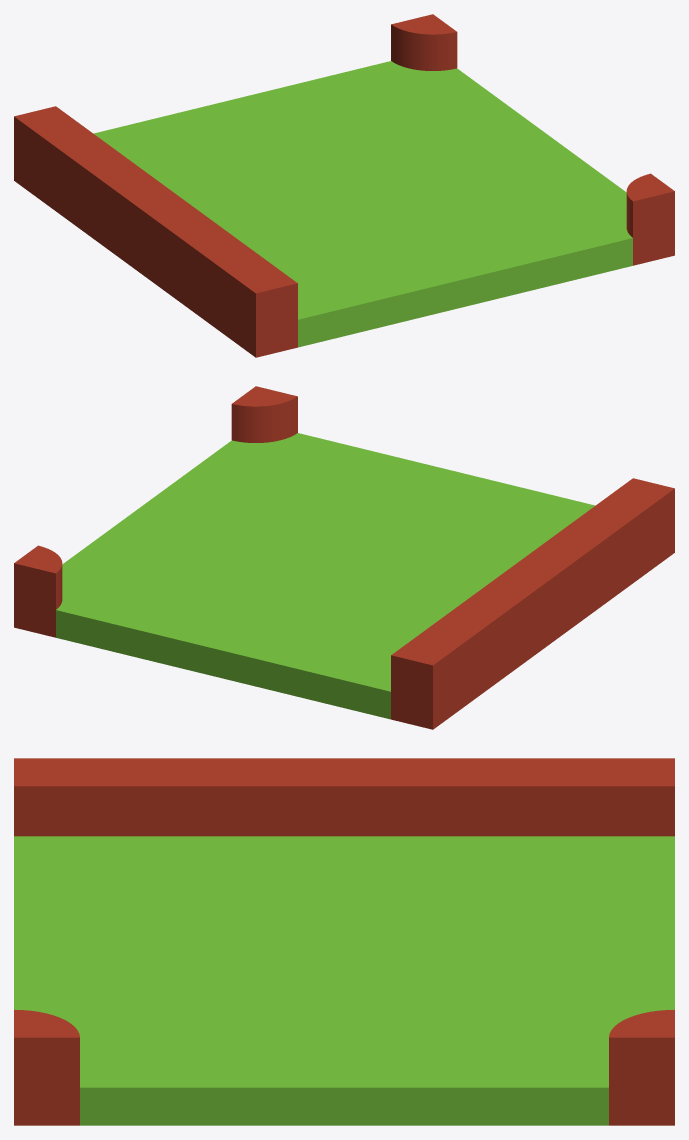
File: T_split_01.obj
3 renders of one model, top to bottom at view 1: azimuth 30°, elevation 25°; view 2: azimuth 150°, elevation 25°; view 3: azimuth 270°, elevation 25°, orthographic. The views are drawn at different scales.
Visible parts, largest first — view 1: Mesh1_T_split_Model; view 2: Mesh1_T_split_Model; view 3: Mesh1_T_split_Model.
Boxes of the visible parts, box(x1,y1,x2,y2) form: Mesh1_T_split_Model: box(14, 14, 674, 357); Mesh1_T_split_Model: box(14, 386, 674, 729); Mesh1_T_split_Model: box(14, 758, 674, 1125).
Bounding box in the file's own units: 3 × 0.44 × 3.
